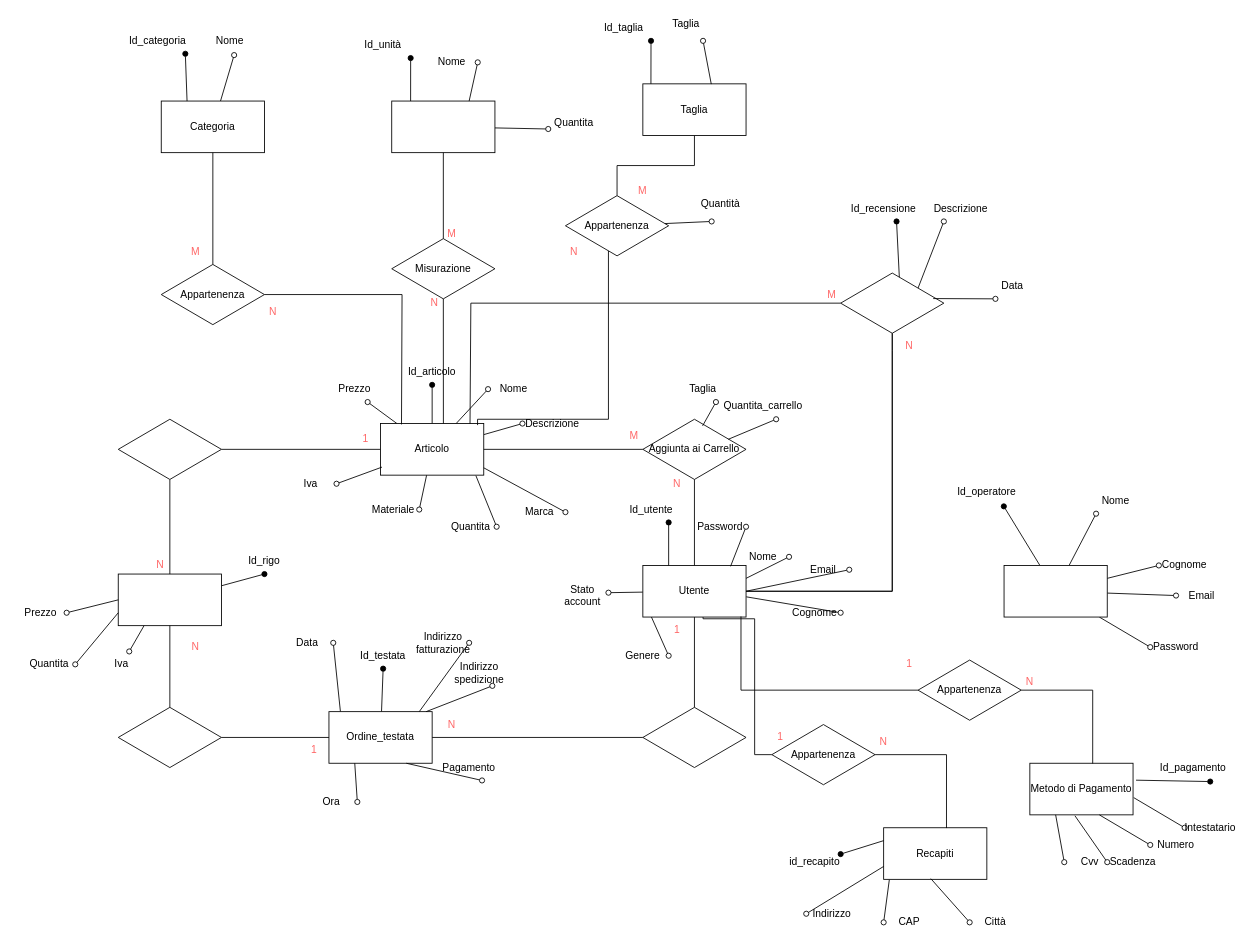
Image size: 1250x949. Some labels were removed from this diagram. Here are the shapes that lost their labels. From the top down, the box of each, then its label:
(391, 100, 495, 153): Unita
(840, 272, 944, 333): Recensione
(117, 418, 221, 479): Apparizione
(117, 573, 221, 626): Ordine_rigo
(1003, 565, 1107, 617): Operatore
(117, 706, 221, 768): Contenenza
(642, 706, 746, 768): Effettuazione
